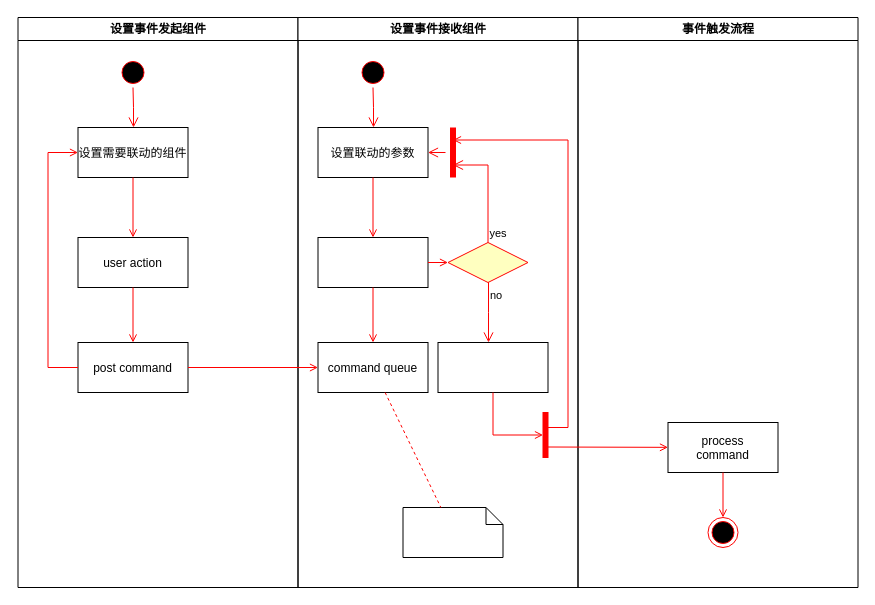
Some shapes in this 875 by 605 pixel diagram are drawn without their labels. The centre of each missing label's shape, as x and y in pixels:
"check for new commands" belongs at point 372,262.
"critical section" belongs at point 452,532.
"dispatch command worker thread" belongs at point 492,367.
"queue empty" belongs at point 487,262.
